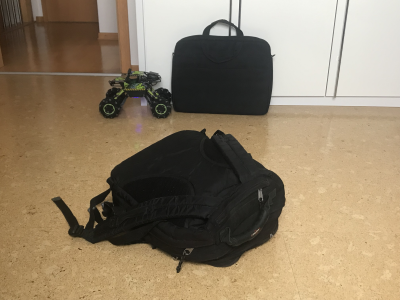remote control car: (97, 67, 173, 122)
